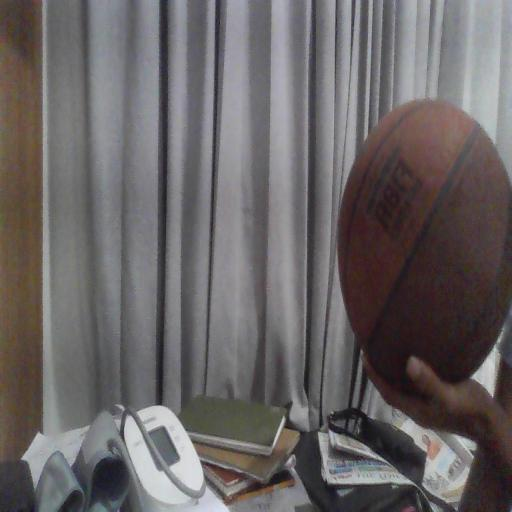basketball: (338, 100, 511, 390)
